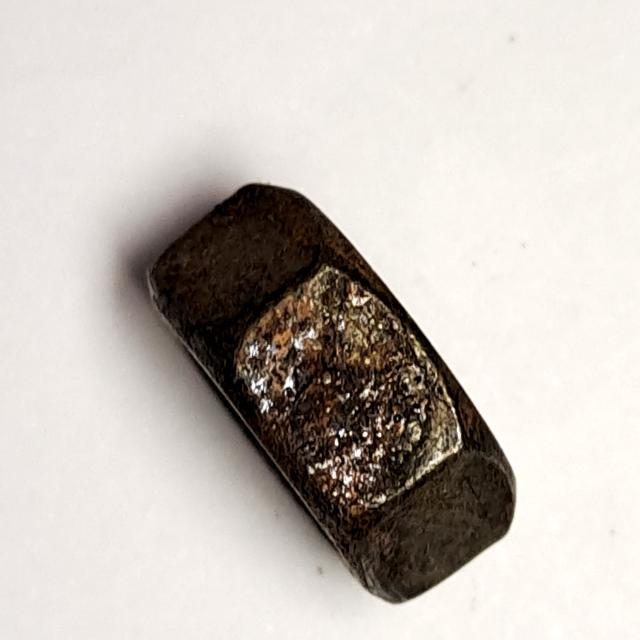Side_Rust: (124, 162, 527, 620)
